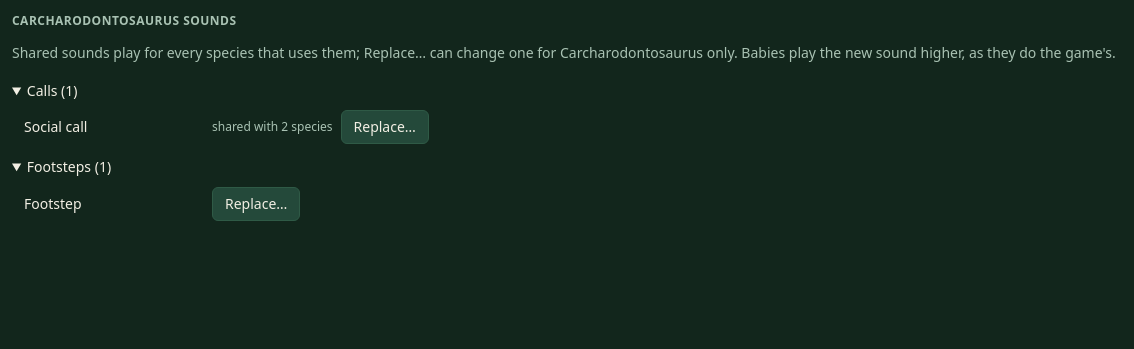
Test: SpeciesSounds › Replace… offers this species' own replacement
This screenshot has width=1134, height=349.
Click the button with aria-label "Replace Social call": x=385, y=127 [340, 110, 429, 144]
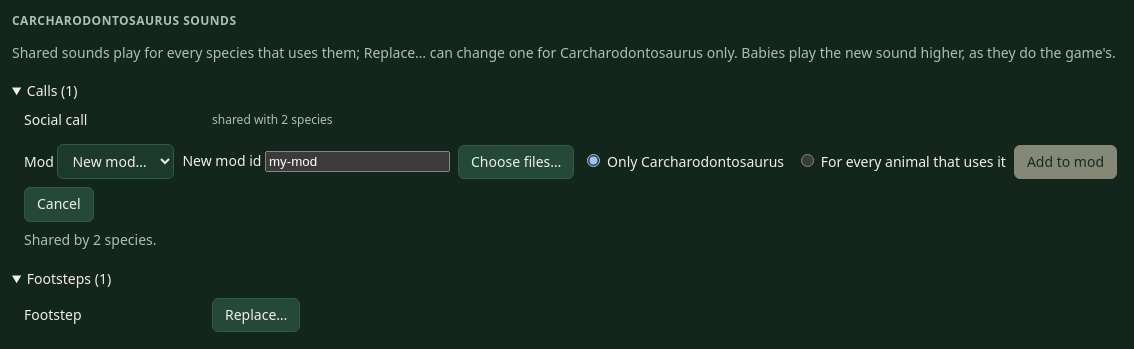
Result: the radio button labelled "Only Carcharodontosaurus" is checked at [587, 154, 600, 167]
